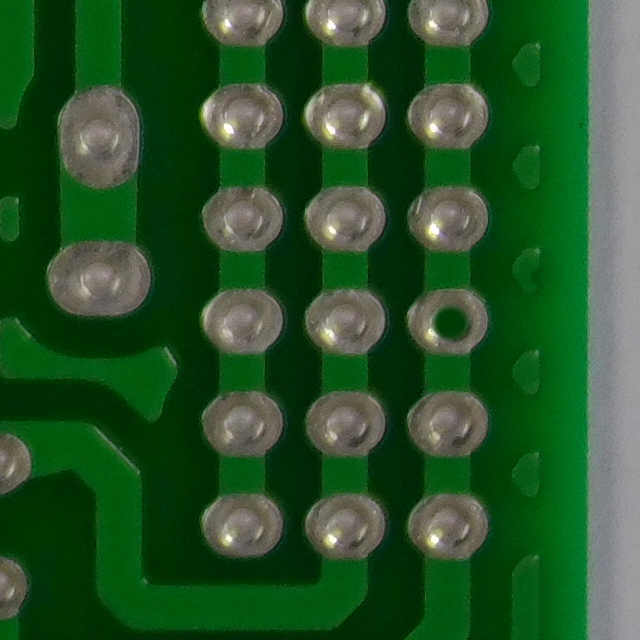missing_hole: (414, 280, 485, 360)
